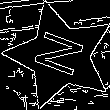N_E: (28, 28, 92, 84)
